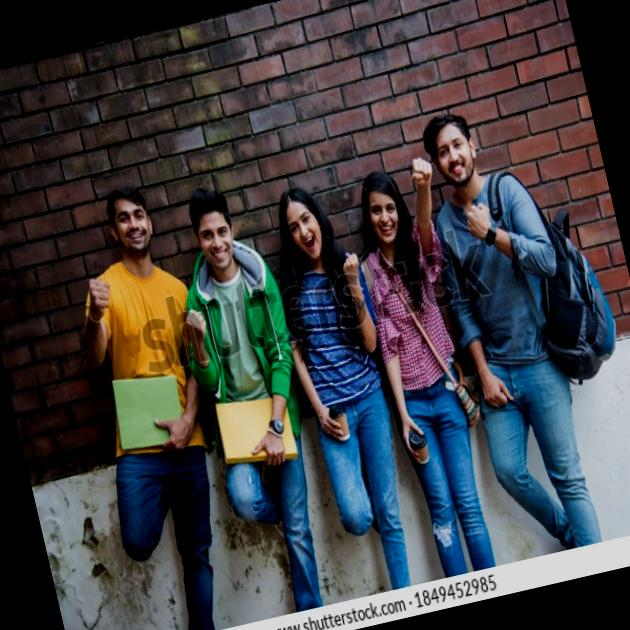notebook: (97, 354, 224, 481)
there is a person: (412, 98, 595, 300), (174, 188, 290, 362), (264, 170, 374, 336), (83, 180, 186, 345), (352, 165, 446, 312)
